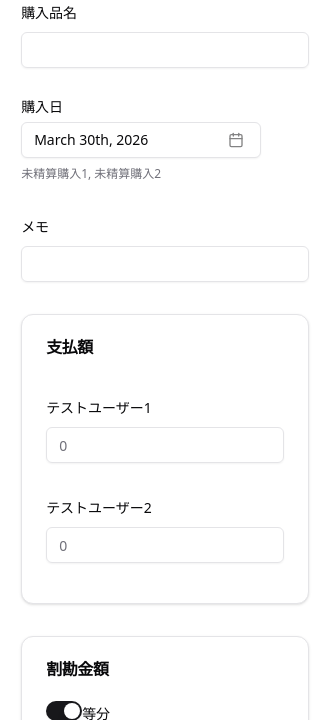
Test case: ClientForm › 割勘金額クリアボタン › 割勘金額に0以外の値が入力されている場合、×ボタンが表示される
# 等分スイッチをOFFにして手動入力可能にする
Click the switch named "等分": [64, 711] box 46,701 -> 82,719
(page scrolled)
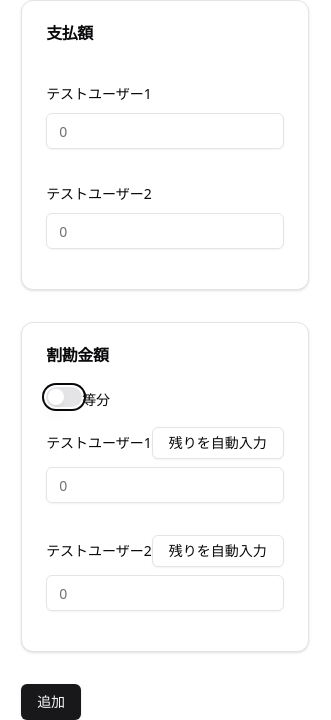
# 割勘金額入力欄（2番目のテストユーザー1ラベル）
In the field labelled "テストユーザー1" below "等分": [165, 485] box 46,467 -> 284,503, type "500"
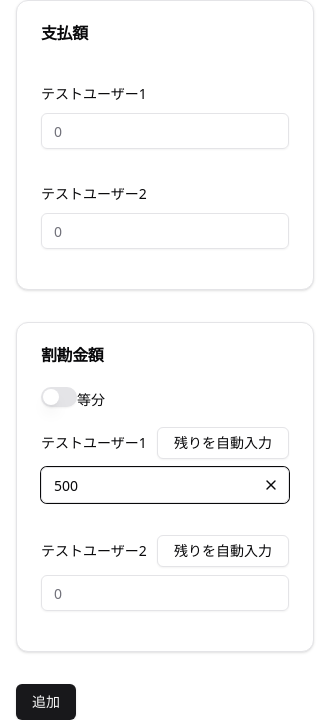
Result: the button named "クリア" is shown at 257,471 -> 285,499
